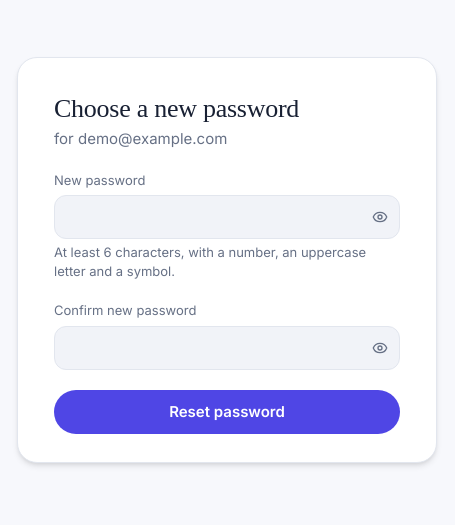
Test case: ResetPasswordScreen › shows the backend's field-level error for an invalid/expired token
Type "Str0ng!Pass" into the password field labelled "New password" at (227, 217), box [54,195,400,239]
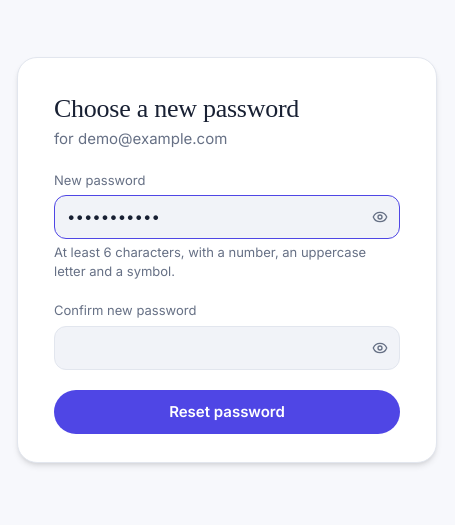
Type "Str0ng!Pass" into the password field labelled "Confirm new password" at (227, 348), box [54,326,400,370]
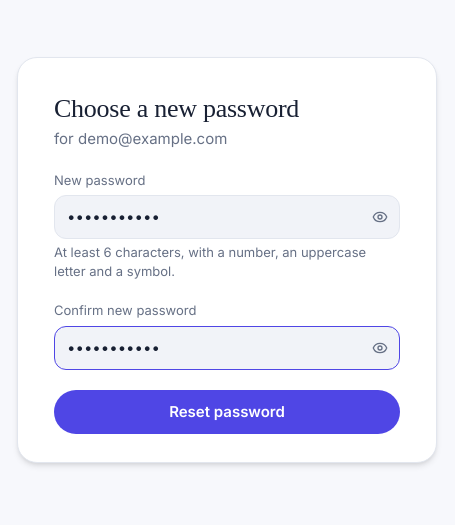
Click the button "Reset password" at (227, 412), box [54,390,400,434]
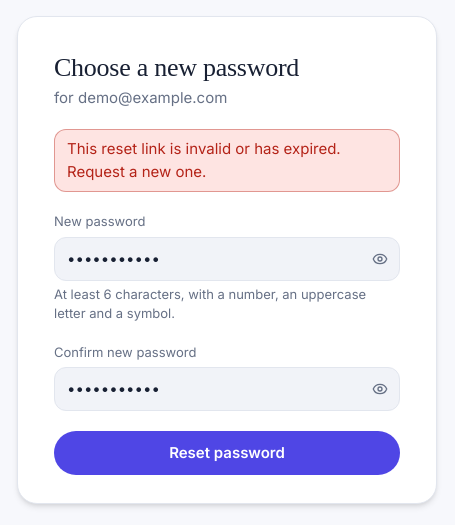
expect the text "This reset link is invalid or has expired. Request a new one." is shown: met, box [54,129,400,192]
